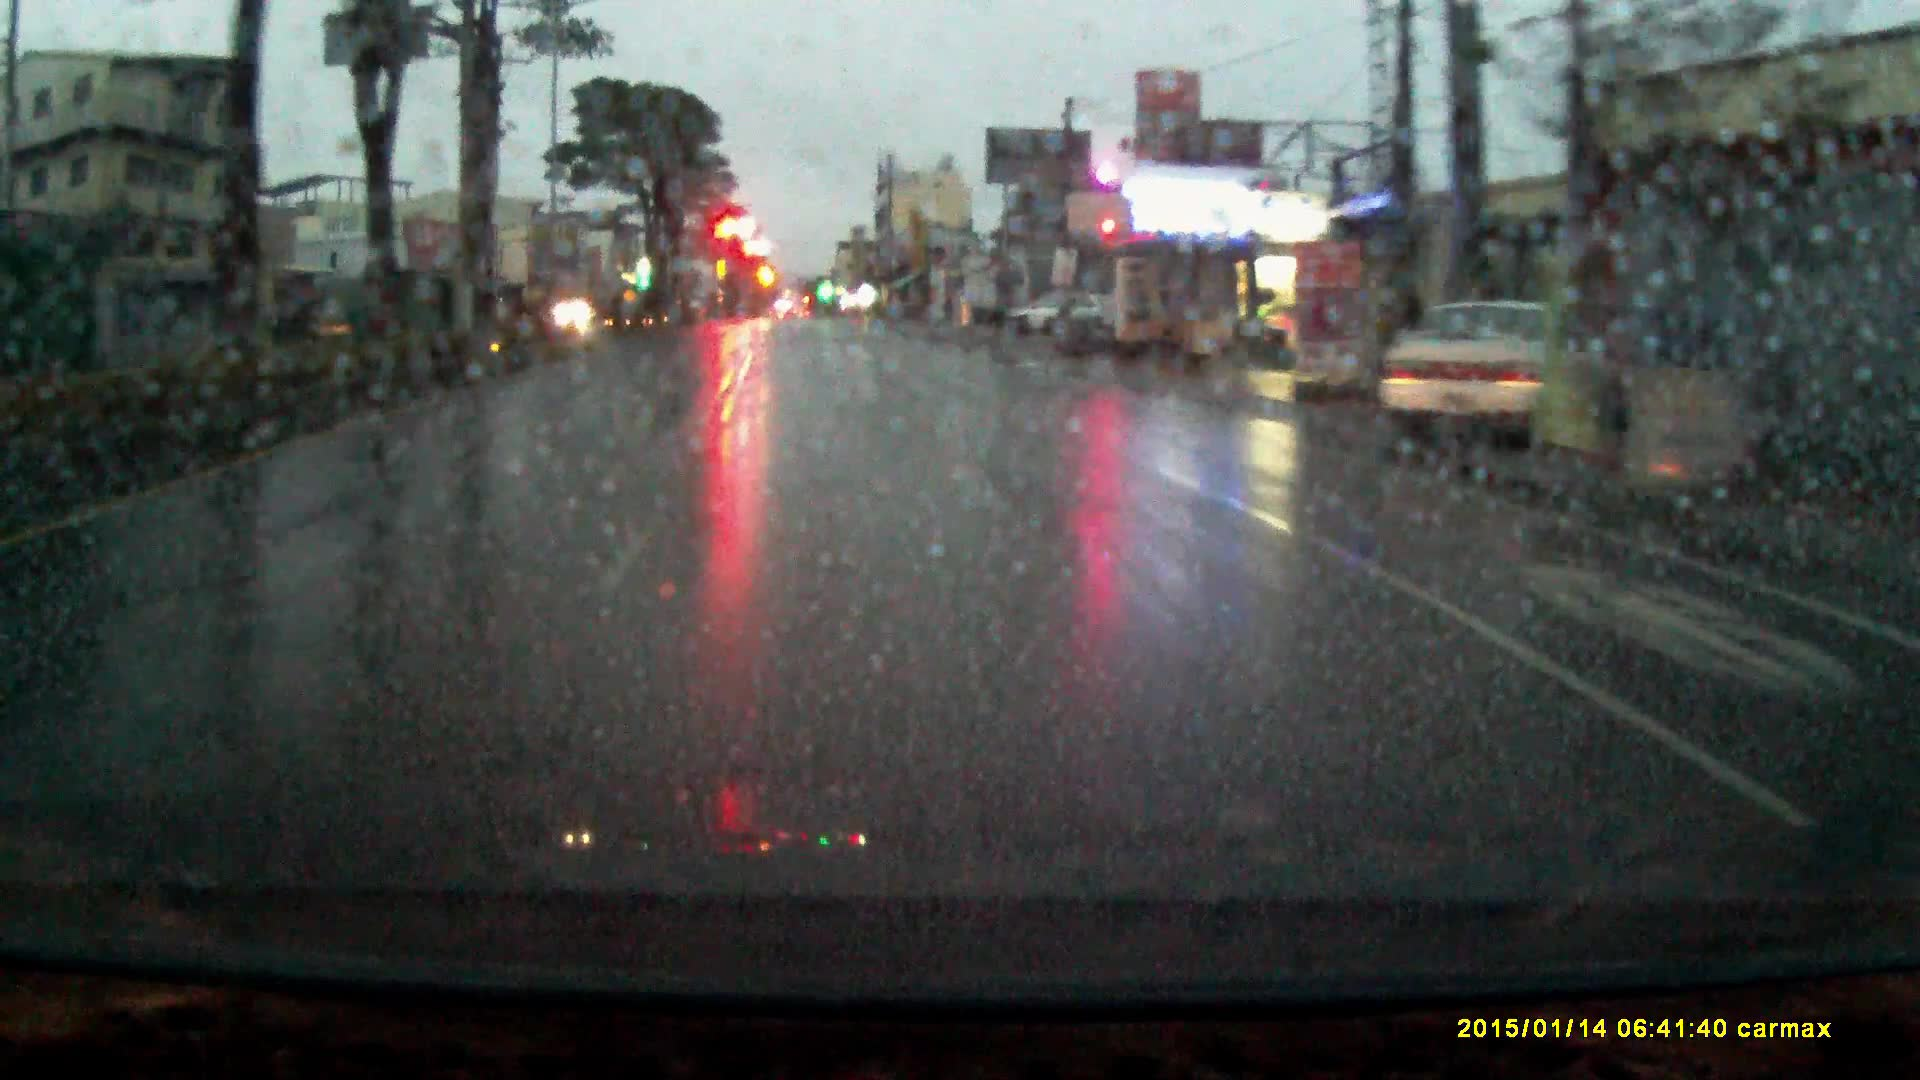vehicle: (1374, 287, 1615, 443), (1007, 291, 1106, 336), (556, 298, 601, 331)
